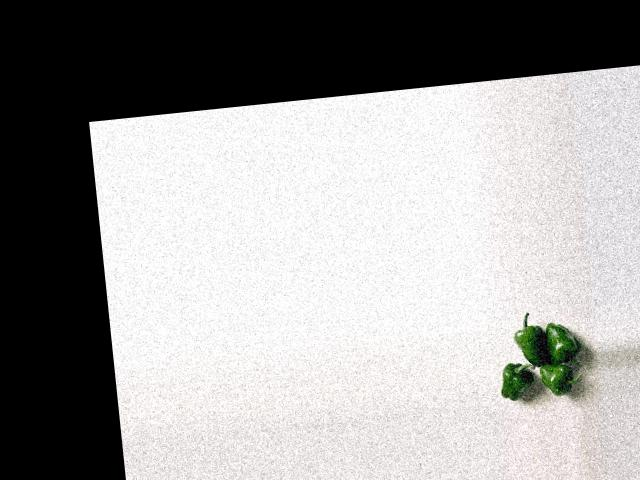bell_pepper: (537, 363, 582, 397)
